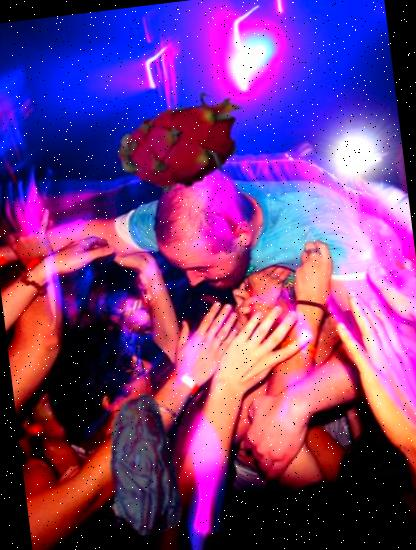Dates: (64, 386, 220, 544)
Pitahaya: (107, 67, 258, 219)
